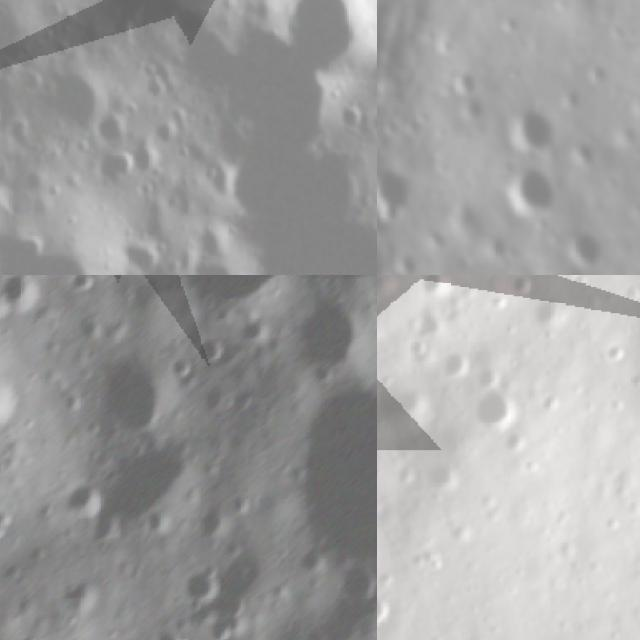crater: (298, 380, 377, 547), (287, 0, 377, 85), (102, 360, 184, 434), (40, 62, 105, 135), (509, 155, 573, 221), (500, 94, 560, 160), (180, 223, 254, 275), (377, 158, 427, 230), (91, 140, 138, 196), (470, 382, 520, 426), (182, 562, 227, 608), (568, 224, 611, 271), (59, 476, 108, 516), (118, 233, 164, 275), (426, 457, 466, 493), (534, 296, 570, 330), (440, 346, 476, 380), (11, 275, 42, 313), (196, 334, 234, 364), (502, 424, 533, 456), (598, 339, 629, 366), (418, 275, 457, 295), (70, 275, 104, 297), (476, 360, 500, 391), (416, 311, 446, 334), (508, 275, 542, 295), (408, 334, 431, 362), (542, 388, 565, 414), (377, 599, 394, 625)
